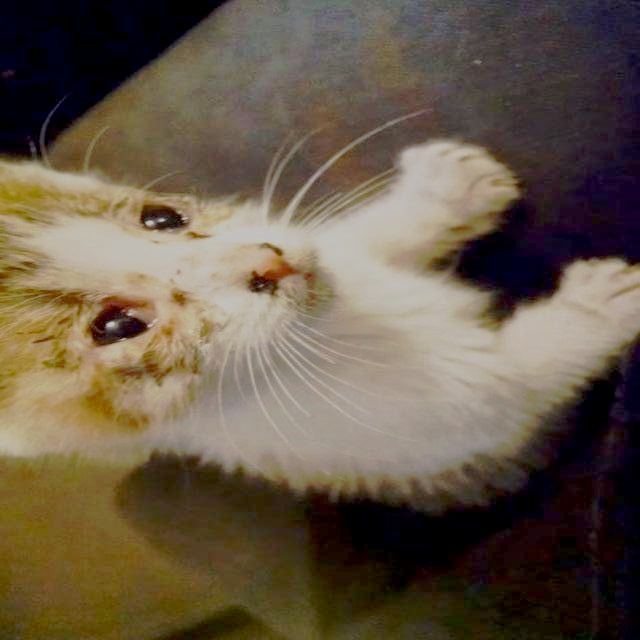eye_infection: (93, 286, 161, 348), (141, 192, 194, 245)
